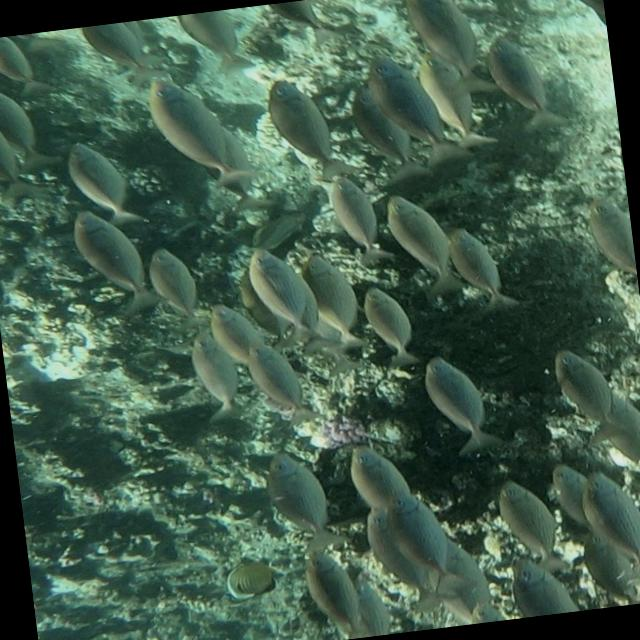Sokar Baligi: (132, 62, 266, 201), (56, 196, 172, 324), (250, 440, 356, 562), (532, 334, 638, 454)
